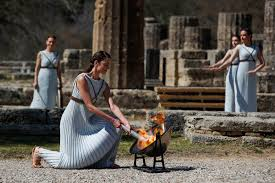Bad: (207, 27, 266, 111)
Good: (67, 26, 266, 132), (28, 35, 133, 169)
